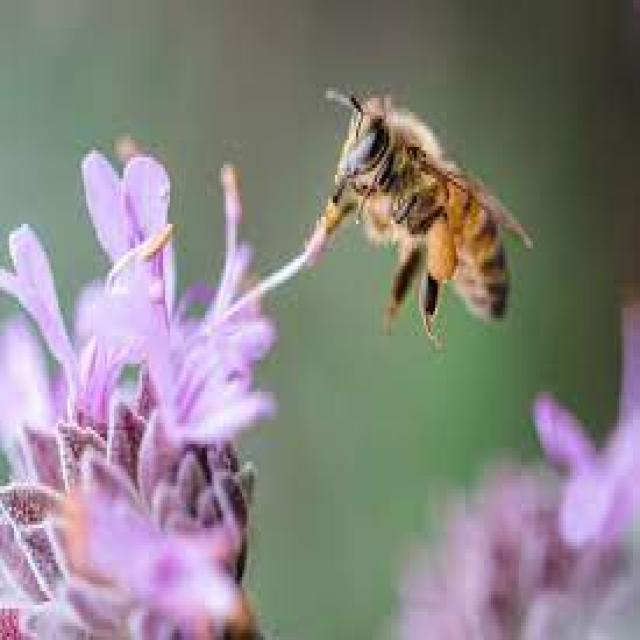Bees: (305, 85, 532, 358)
